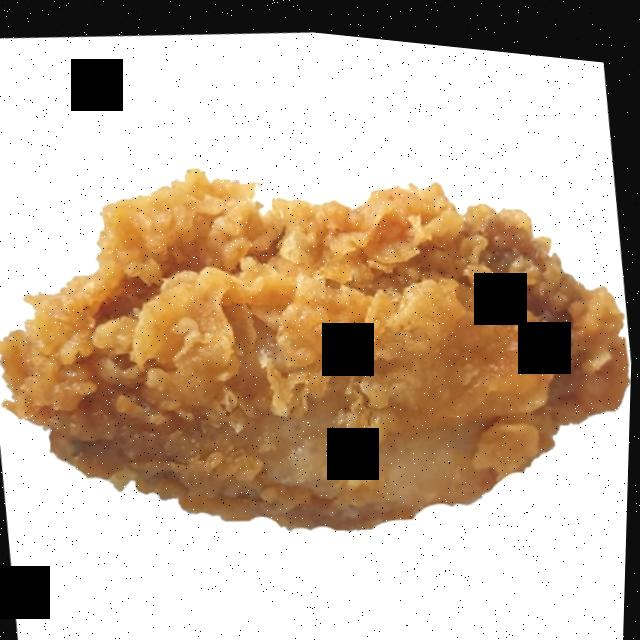Frango: (0, 141, 596, 548)
